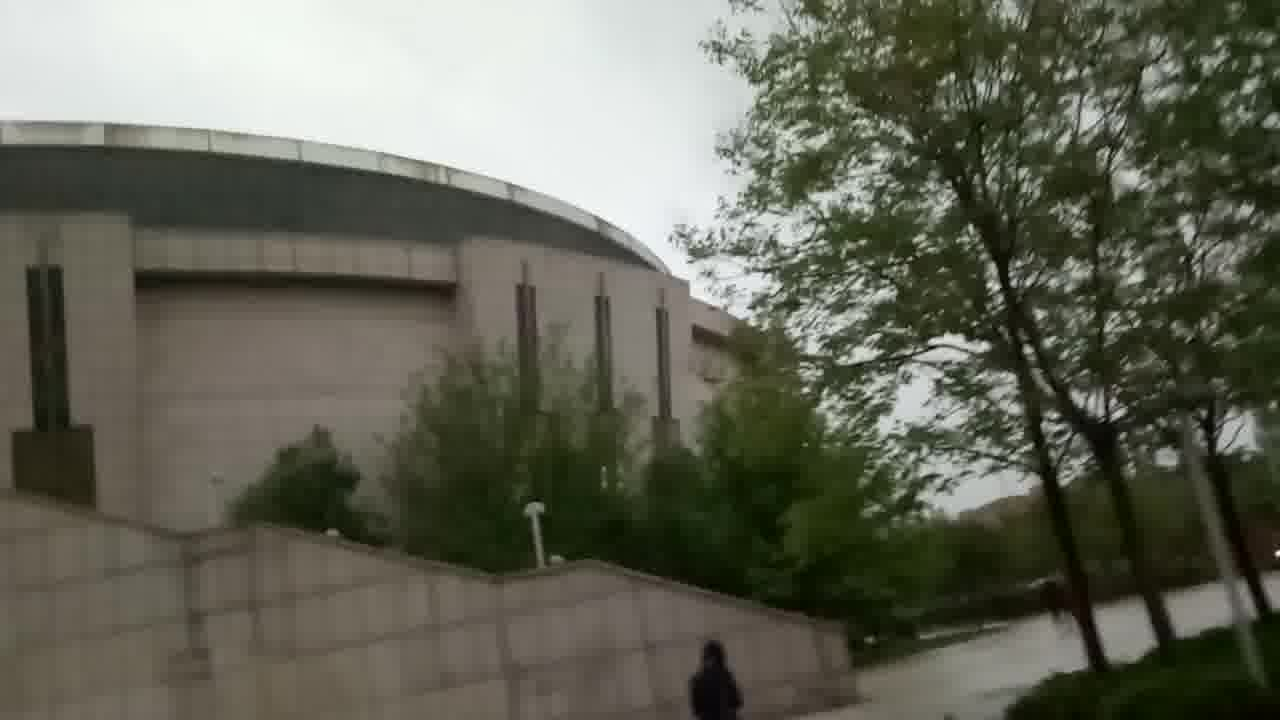zhongtiww: (6, 110, 862, 712)
